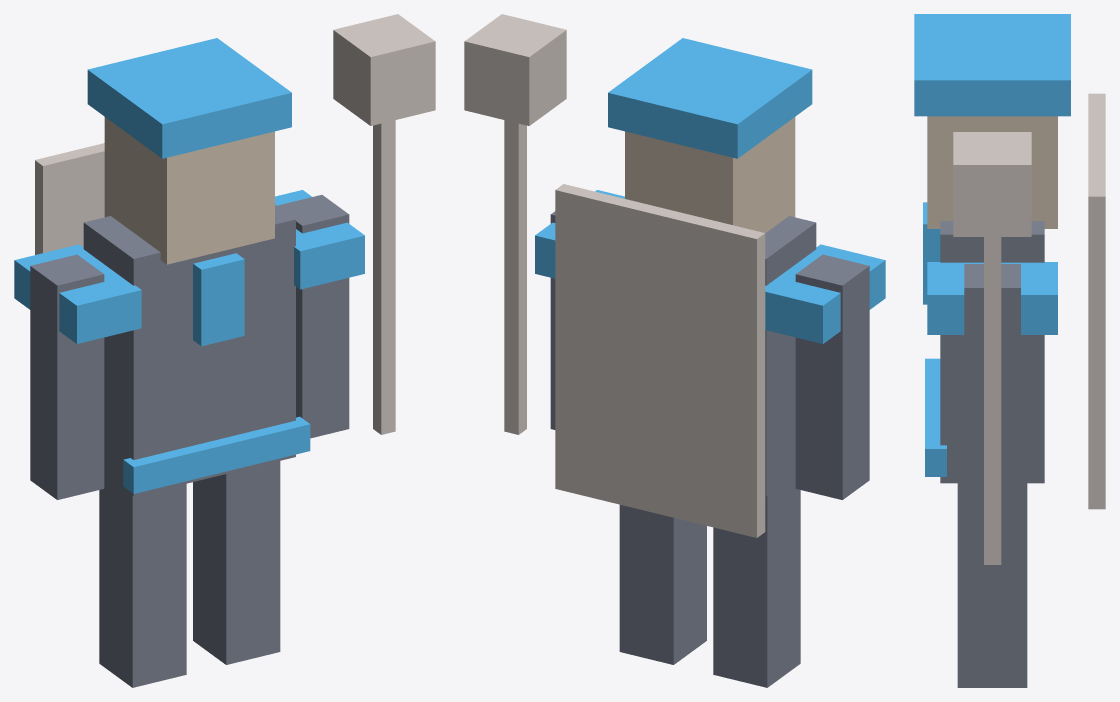
The model's file is 05_mirek_brightlock_ranger_under_upper.glb.
3 views of the same model, side by side, from view 1: azimuth 30°, elevation 25°; view 2: azimuth 150°, elevation 25°; view 3: azimuth 270°, elevation 25° (orthographic). The views are drawn at different scales.
Visible parts, largest first — view 1: Mirek Brightlock, Ranger under Upper; view 2: Mirek Brightlock, Ranger under Upper; view 3: Mirek Brightlock, Ranger under Upper.
Boxes of the visible parts, <box> form: Mirek Brightlock, Ranger under Upper: <box>14,14,435,687</box>; Mirek Brightlock, Ranger under Upper: <box>464,14,885,687</box>; Mirek Brightlock, Ranger under Upper: <box>914,14,1105,687</box>.
Bounding box in the file's own units: 0.9876 × 1.46 × 0.4198.
